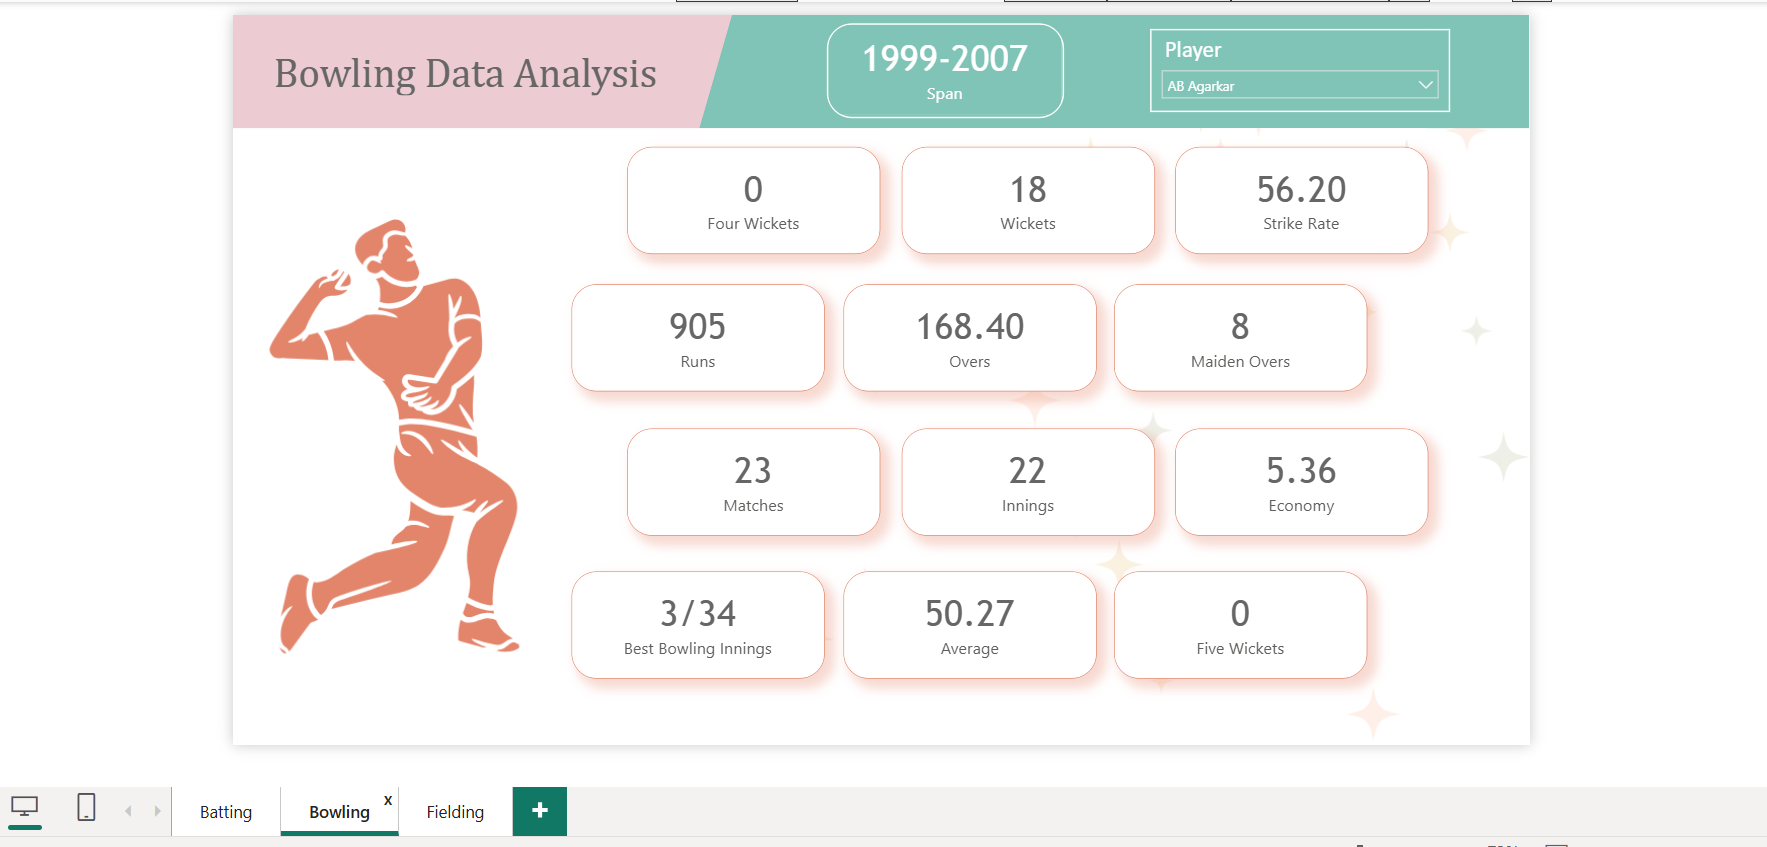

This screenshot's page, from the dashboard's own definition file:
{"tool":"powerbi","page":{"name":"Bowling","canvas":[1280,720],"ordinal":1},"visuals":[{"type":"shape","box":[0,0,639.4,111.7],"z":0},{"type":"shape","box":[460.7,0,819.5,111.7],"z":1000},{"type":"shape","box":[1179.5,0,100.5,111.7],"z":2000},{"type":"cardVisual","fields":{"Data":["Sum(Bowling.4)"]},"box":[389.2,129.7,250.4,106.1],"z":3000},{"type":"slicer","fields":{"Values":["Bowling.Player"]},"box":[906,14,296,82.4],"z":4000},{"type":"cardVisual","fields":{"Data":["Sum(Bowling.Wkts)"]},"box":[659.8,130.4,250.4,106.1],"z":5000},{"type":"cardVisual","fields":{"Data":["Sum(Bowling.SR)"]},"box":[930.4,129.7,250.4,106.1],"z":6000},{"type":"cardVisual","fields":{"Data":["Sum(Bowling.Runs)"]},"box":[334.8,266.4,250.4,106.1],"z":7000},{"type":"cardVisual","fields":{"Data":["Sum(Bowling.Overs)"]},"box":[602.6,266,250.4,106.1],"z":8000},{"type":"cardVisual","fields":{"Data":["Sum(Bowling.Mdns)"]},"box":[870.4,266.4,250.4,106.1],"z":9000},{"type":"cardVisual","fields":{"Data":["Sum(Bowling.Mat)"]},"box":[389.2,408.7,250.4,106.1],"z":10000},{"type":"cardVisual","fields":{"Data":["Sum(Bowling.Inns)"]},"box":[659.8,408.7,250.4,106.1],"z":11000},{"type":"cardVisual","fields":{"Data":["Sum(Bowling.Econ)"]},"box":[930.4,408.7,250.4,106.1],"z":12000},{"type":"cardVisual","fields":{"Data":["Min(Bowling.BBI)"]},"box":[334.8,549.6,250.4,106.1],"z":13000},{"type":"cardVisual","fields":{"Data":["Sum(Bowling.Ave)"]},"box":[602.6,549.6,250.4,106.1],"z":14000},{"type":"cardVisual","fields":{"Data":["Sum(Bowling.5)"]},"box":[870.4,549.6,250.4,106.1],"z":15000},{"type":"cardVisual","fields":{"Data":["Min(Batting.Span)"]},"box":[585.9,8.4,234.3,93.5],"z":15001}]}

Visuals, with their boxes on the page's 1280x720 design canvas (x1, y1, x2, y2). These are canvas units, not pixel positions in the 1767x847 screenshot, which may show the page scaled, cropped or inside an application window:
shape: <bbox>0, 0, 639, 112</bbox>
shape: <bbox>461, 0, 1280, 112</bbox>
shape: <bbox>1180, 0, 1280, 112</bbox>
cardVisual - Sum(Bowling.4): <bbox>389, 130, 640, 236</bbox>
slicer - Bowling.Player: <bbox>906, 14, 1202, 96</bbox>
cardVisual - Sum(Bowling.Wkts): <bbox>660, 130, 910, 236</bbox>
cardVisual - Sum(Bowling.SR): <bbox>930, 130, 1181, 236</bbox>
cardVisual - Sum(Bowling.Runs): <bbox>335, 266, 585, 372</bbox>
cardVisual - Sum(Bowling.Overs): <bbox>603, 266, 853, 372</bbox>
cardVisual - Sum(Bowling.Mdns): <bbox>870, 266, 1121, 372</bbox>
cardVisual - Sum(Bowling.Mat): <bbox>389, 409, 640, 515</bbox>
cardVisual - Sum(Bowling.Inns): <bbox>660, 409, 910, 515</bbox>
cardVisual - Sum(Bowling.Econ): <bbox>930, 409, 1181, 515</bbox>
cardVisual - Min(Bowling.BBI): <bbox>335, 550, 585, 656</bbox>
cardVisual - Sum(Bowling.Ave): <bbox>603, 550, 853, 656</bbox>
cardVisual - Sum(Bowling.5): <bbox>870, 550, 1121, 656</bbox>
cardVisual - Min(Batting.Span): <bbox>586, 8, 820, 102</bbox>
